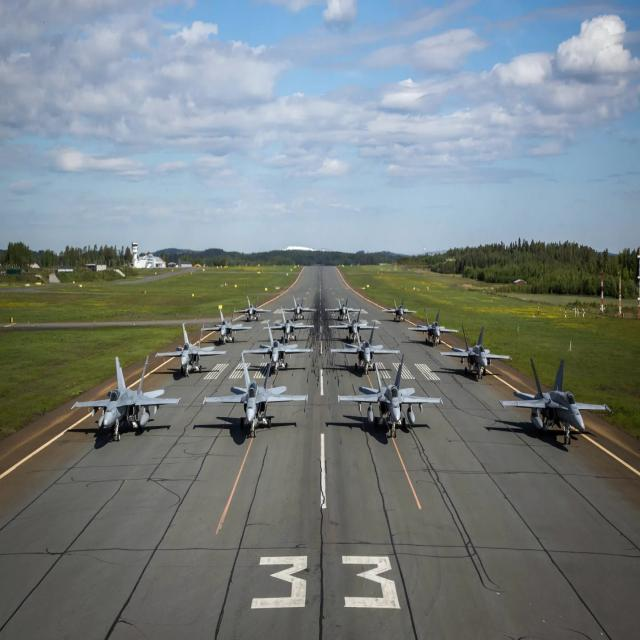MIL_Plane: (498, 358, 614, 445), (71, 355, 181, 442), (337, 352, 444, 438), (202, 352, 308, 438), (154, 321, 228, 378), (439, 325, 512, 379), (330, 320, 401, 375), (242, 320, 314, 374), (408, 307, 460, 347), (200, 306, 252, 345), (328, 306, 379, 344), (262, 306, 314, 343), (324, 294, 361, 321), (234, 295, 271, 321), (381, 296, 418, 322), (282, 294, 316, 320)
